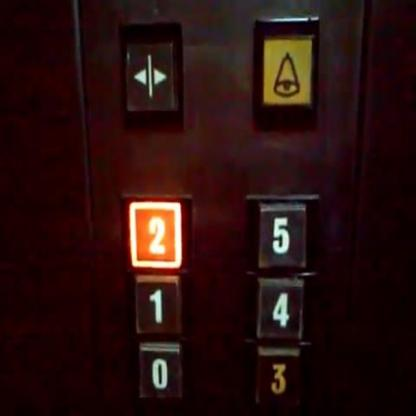0: (127, 334, 191, 404)
1: (125, 271, 193, 337)
2: (120, 192, 192, 274)
3: (246, 338, 310, 414)
4: (246, 270, 314, 342)
5: (244, 193, 318, 274)
alarm: (254, 15, 321, 130)
open: (117, 21, 188, 132)
